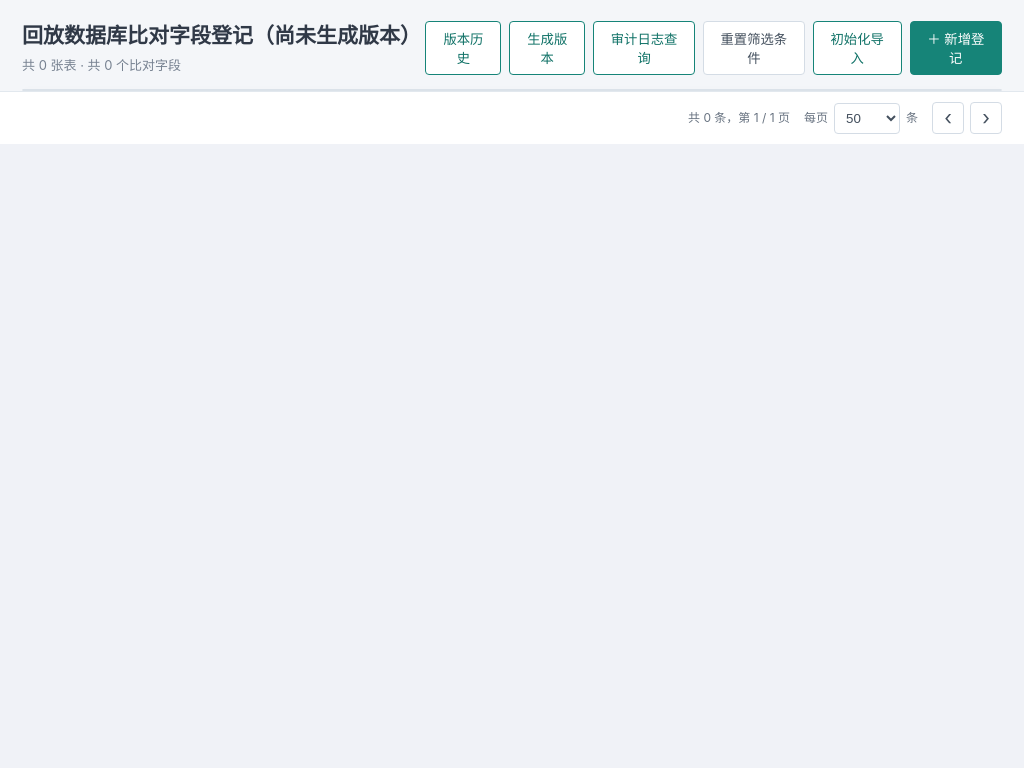
Test case: ReplayDatabaseComparisonPage › generates a version through a password dialog and refreshes the title
Click the button with test id "generate-version". click: (547, 48)
box: left=509, top=20, right=585, bottom=74
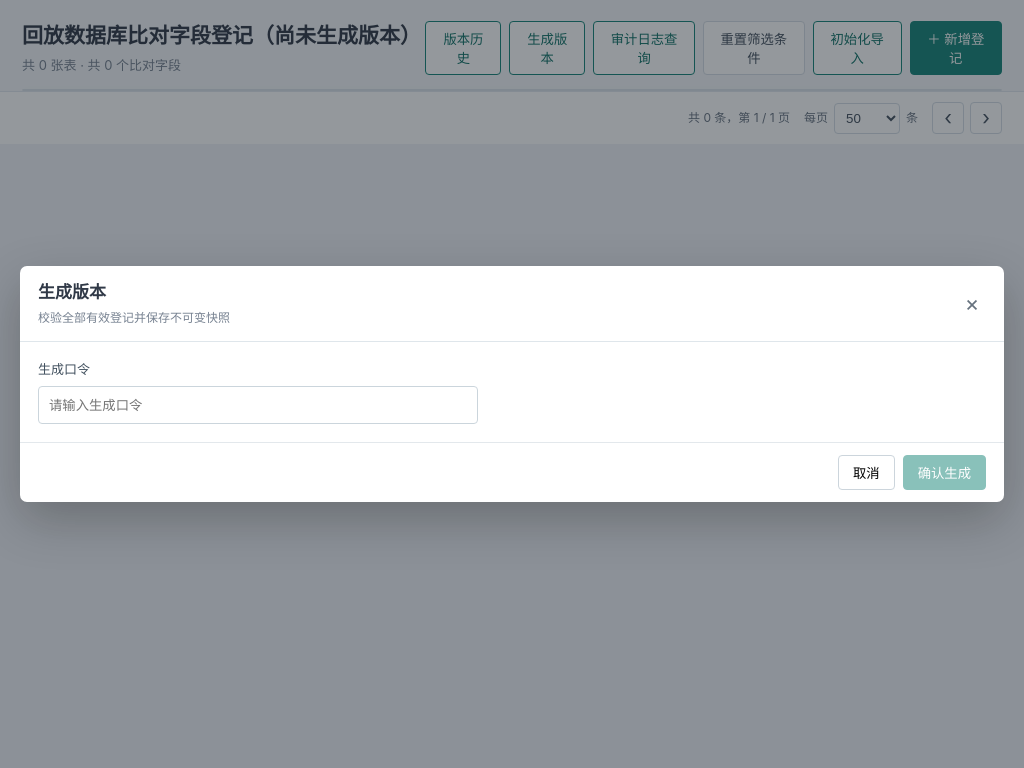
Type "secret" into the password field with test id "generation-token". click: (258, 405)
box: left=38, top=386, right=478, bottom=424
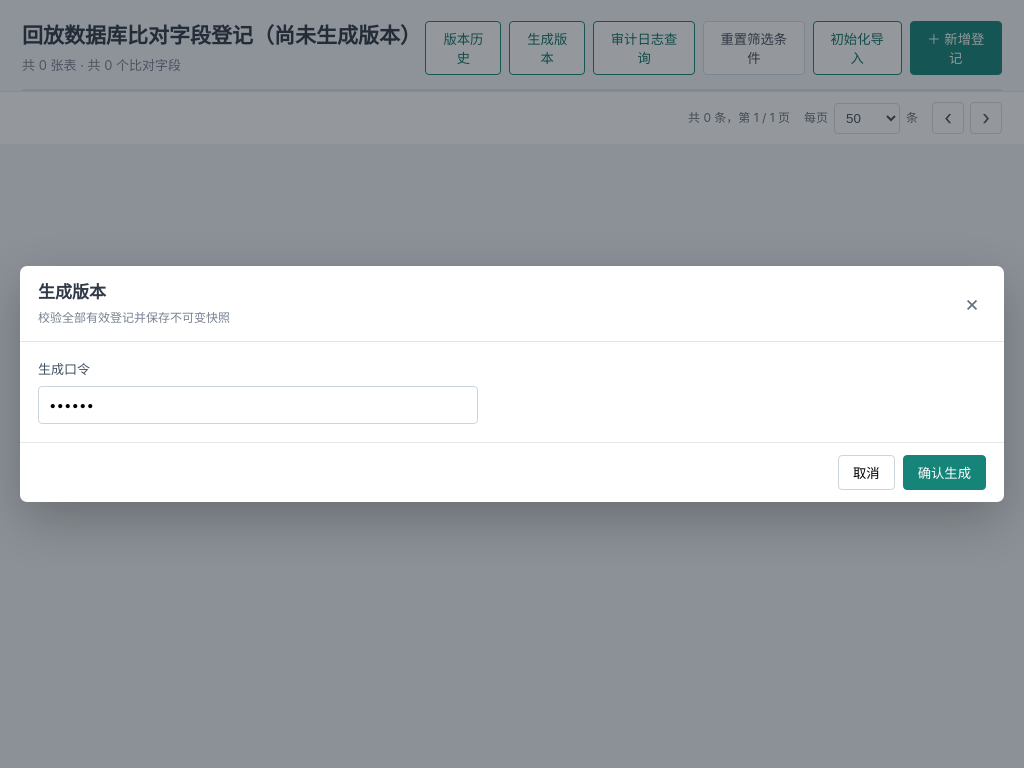
Click the button with test id "confirm-generate-version". click: (944, 472)
box: left=903, top=455, right=986, bottom=490
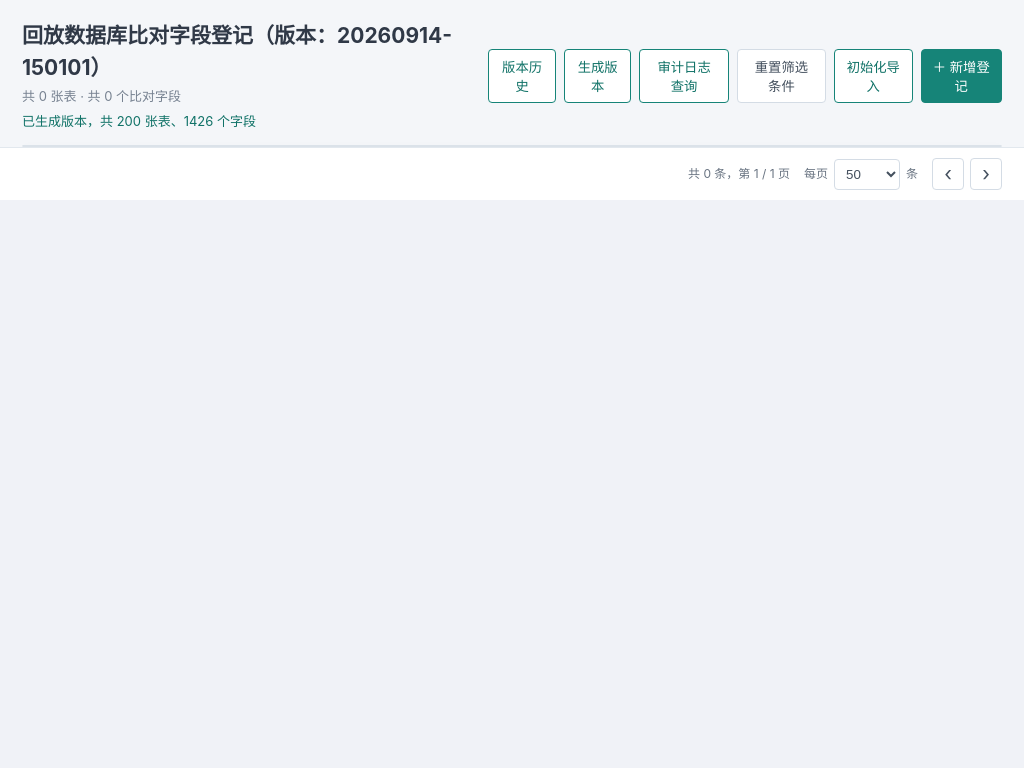
Check: the heading "回放数据库比对字段登记（版本：20260914-150101）" is shown, box left=22, top=20, right=476, bottom=83
Check: the text "已生成版本，共 200 张表、1426 个字段" is shown, box left=22, top=112, right=256, bottom=128
